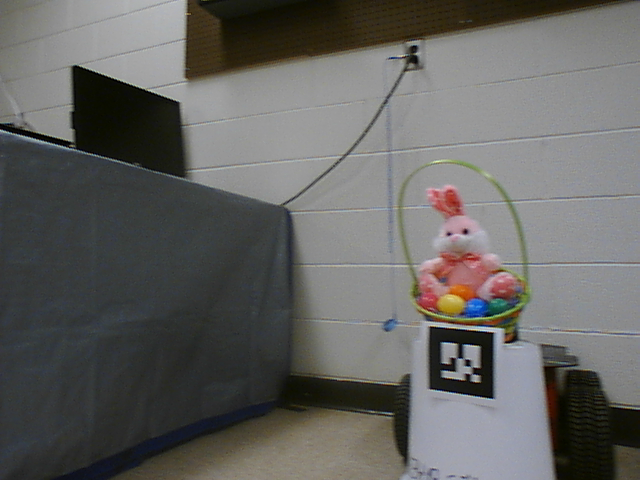bunny: (390, 152, 533, 350)
